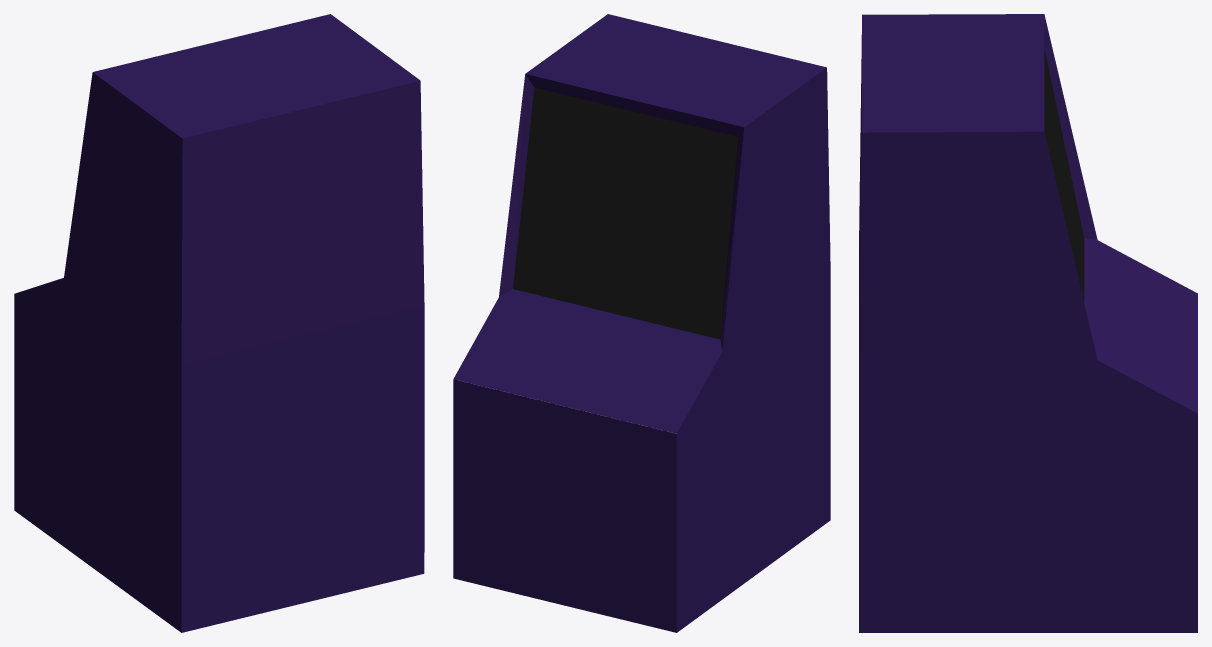
The model's file is casing.glb.
3 views of the same model, side by side, from view 1: azimuth 30°, elevation 25°; view 2: azimuth 150°, elevation 25°; view 3: azimuth 270°, elevation 25° (orthographic). The views are drawn at different scales.
Visible parts, largest first — view 1: Node; view 2: Node; view 3: Node.
Part boxes in pixels (bbox=[...]): Node: bbox=[14, 14, 424, 632]; Node: bbox=[453, 14, 830, 632]; Node: bbox=[859, 14, 1197, 632].
Bounding box in the file's own units: 0.9633 × 1.87 × 1.15.
